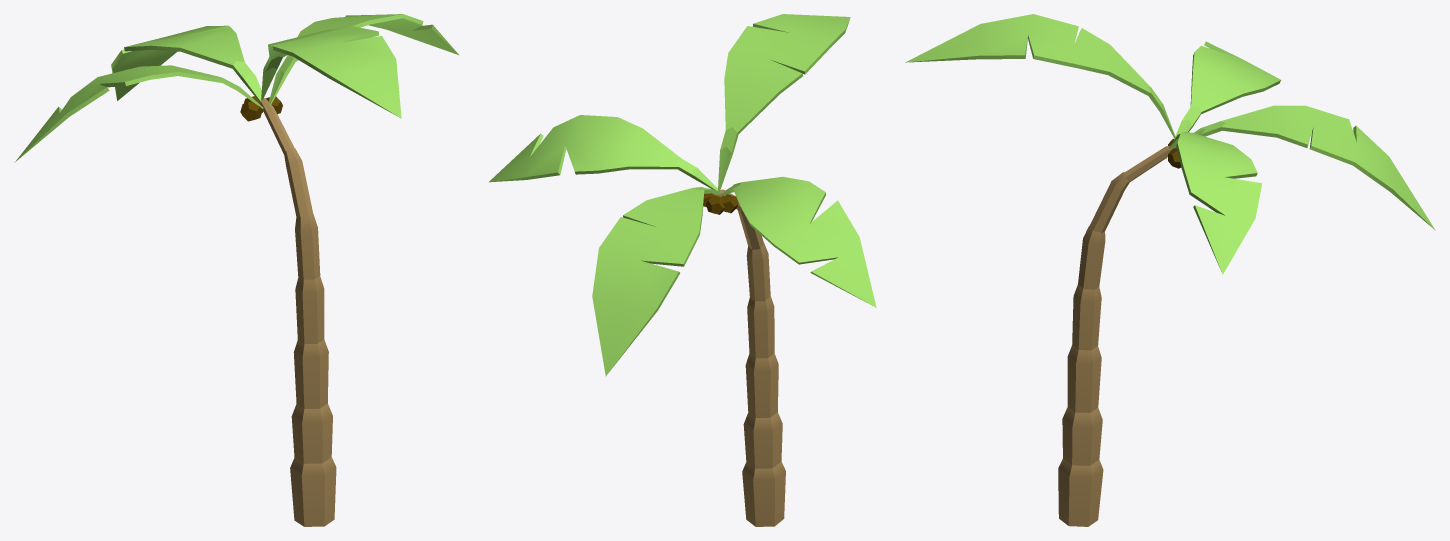
Rendered from coconutTREEEEE.fbx.
The picture shows the model from 3 angles, left to right: view 1: azimuth 30°, elevation 25°; view 2: azimuth 150°, elevation 25°; view 3: azimuth 270°, elevation 25°; orthographic projection. The views are drawn at different scales.
Visible parts, largest first — view 1: pCylinder10, pPlane2, pPlane3, pPlane1, pPlane4; view 2: pPlane3, pCylinder10, pPlane1, pPlane2, pPlane4; view 3: pCylinder10, pPlane2, pPlane4, pPlane3, pPlane1.
Part boxes in pixels (x1=…): pCylinder10: x1=259, y1=98, x2=336, y2=526; pPlane2: x1=261, y1=26, x2=401, y2=118; pPlane3: x1=111, y1=25, x2=264, y2=102; pPlane1: x1=14, y1=65, x2=263, y2=162; pPlane4: x1=269, y1=14, x2=458, y2=104; pPlane3: x1=592, y1=187, x2=720, y2=376; pCylinder10: x1=713, y1=189, x2=785, y2=526; pPlane1: x1=721, y1=176, x2=876, y2=307; pPlane2: x1=718, y1=14, x2=850, y2=192; pPlane4: x1=489, y1=115, x2=717, y2=190; pCylinder10: x1=1058, y1=145, x2=1176, y2=526; pPlane2: x1=905, y1=14, x2=1175, y2=138; pPlane4: x1=1168, y1=132, x2=1262, y2=274; pPlane3: x1=1194, y1=105, x2=1435, y2=230; pPlane1: x1=1166, y1=41, x2=1280, y2=159.
Size of the model in its own units: 9.66 by 10.71 by 10.62.
